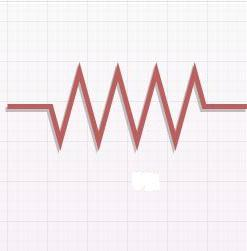resistor: (37, 52, 224, 155)
